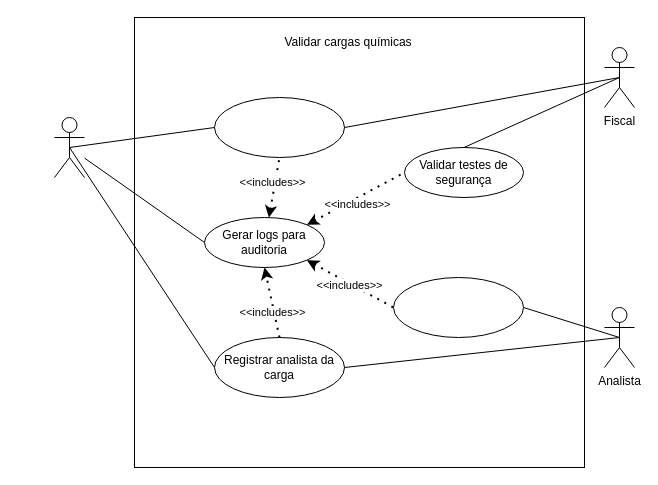
Some shapes in this 658 by 485 pixel diagram are drawn without their labels. Here are the shapes that lost their labels. From the top down, the centre of each, then its label:
(x=69, y=147): Gestor Operacional
(x=279, y=127): Registrar fiscal da carga
(x=458, y=307): Validar documentações
